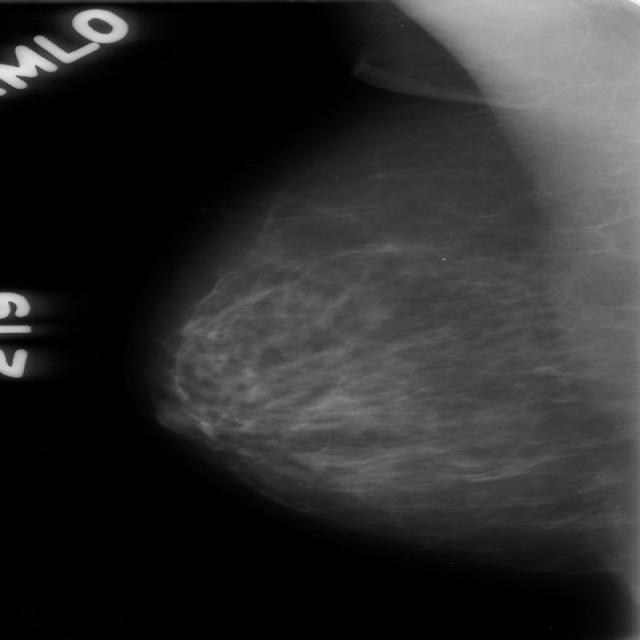tumour: (354, 303, 392, 322)
